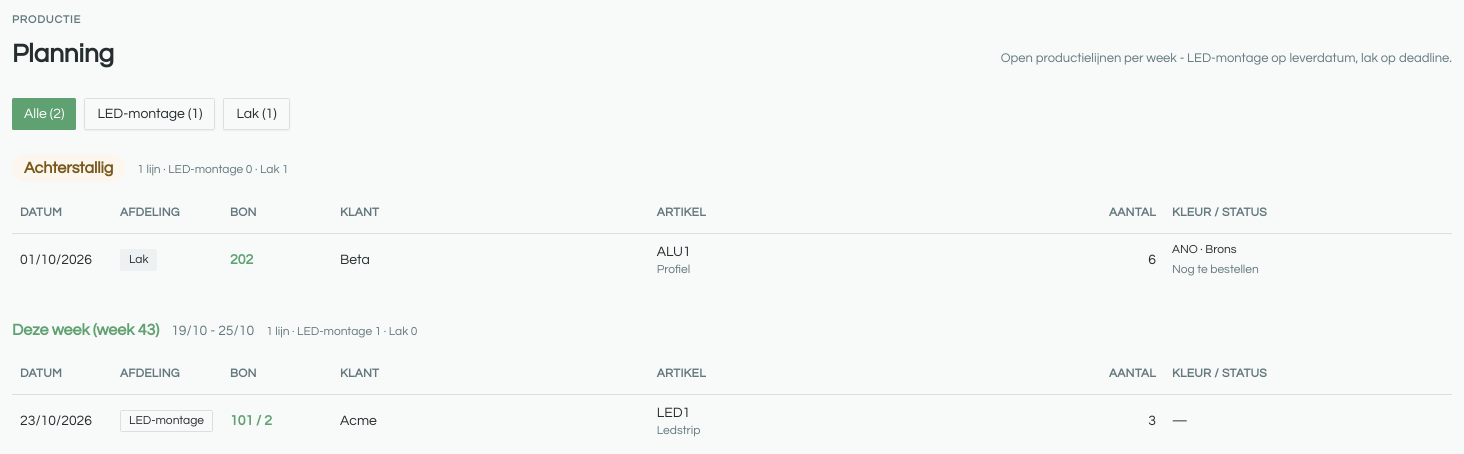
ProductieplanningPage › filters by afdeling
The image size is (1464, 454).
Click the button "Lak (1)" at [257, 114], box x1=224 y1=98 x2=290 y2=130
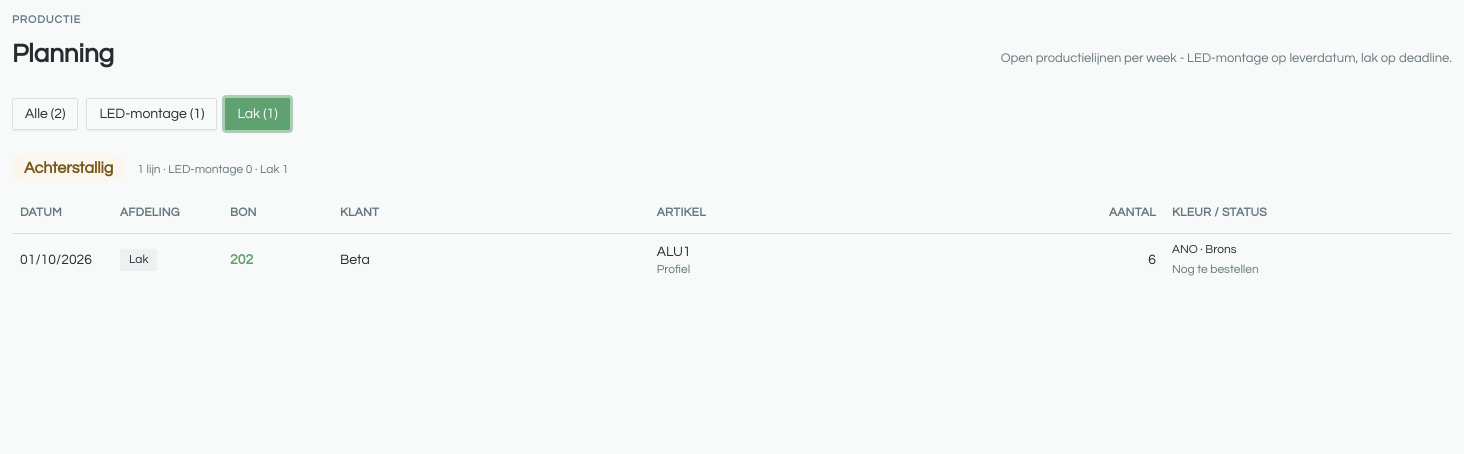
Expected: the text "Beta" is shown, x1=332 y1=234 x2=649 y2=286
Expected: the text "Acme" is gone
Click the button "LED-montage (1)" at [152, 114], box x1=86 y1=98 x2=218 y2=130
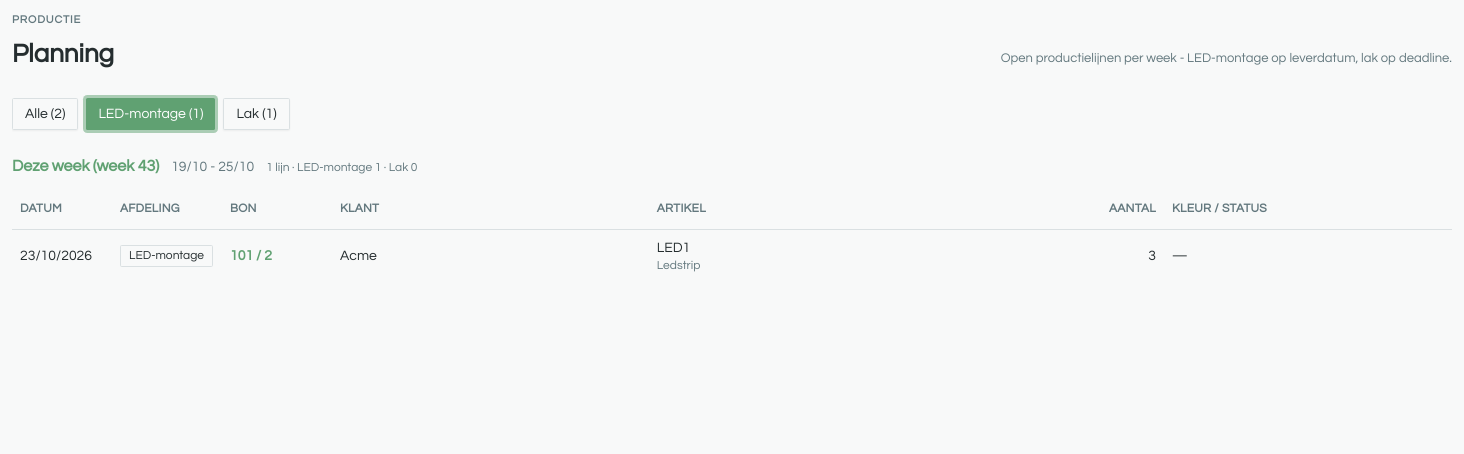
Expected: the text "Acme" is shown, x1=332 y1=230 x2=649 y2=282
Expected: the text "Beta" is gone
